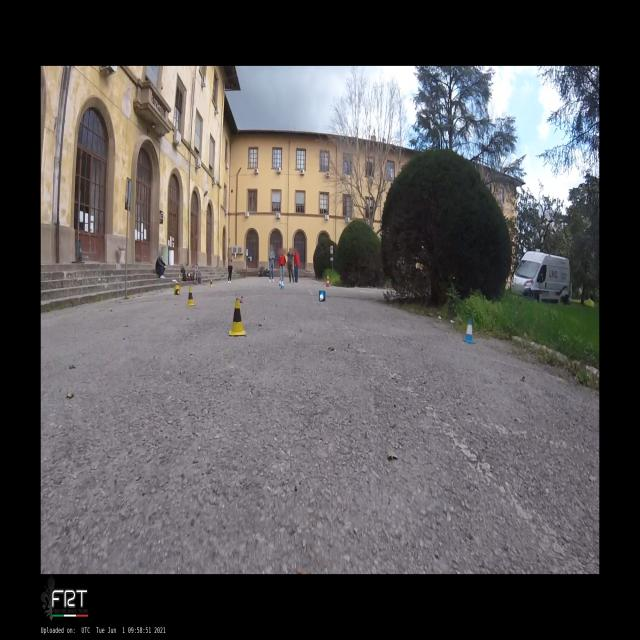blue_cone: (463, 317, 475, 343), (319, 291, 325, 301), (280, 279, 284, 289), (279, 277, 281, 286)
large_orange_cone: (326, 274, 330, 286)
yellow_cone: (229, 299, 245, 335), (186, 286, 195, 306), (174, 285, 180, 295), (210, 279, 212, 287)
